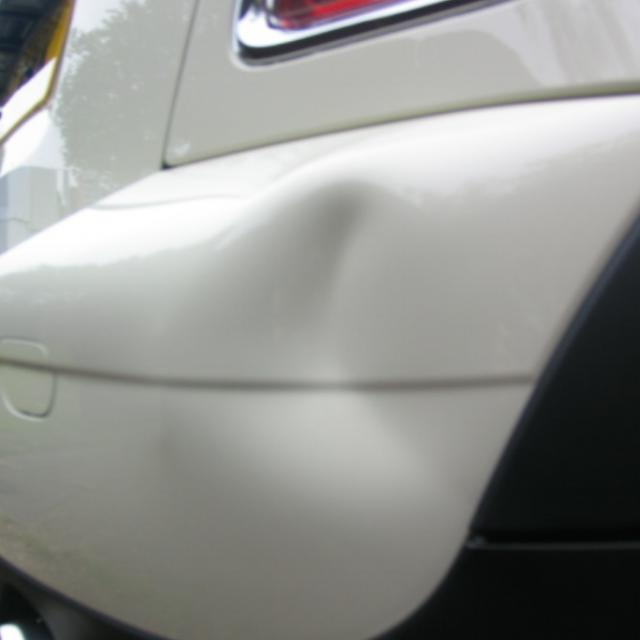dents: (165, 182, 478, 496)
